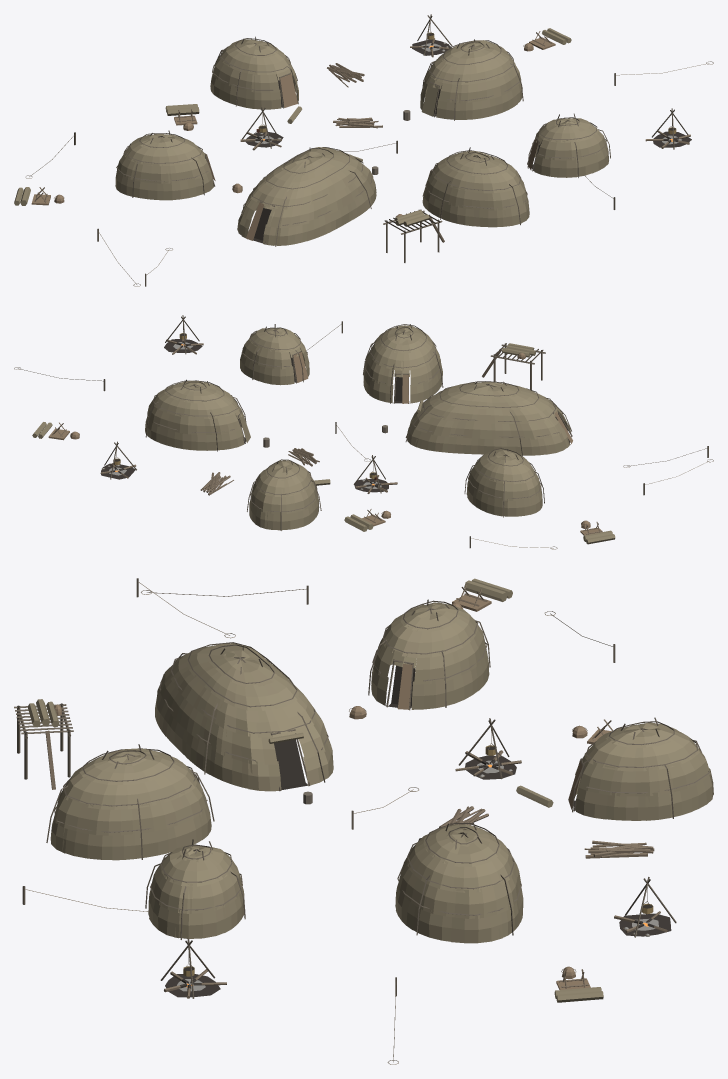
Rendered from potawatomi_camp_1812_prairie_west__camp_1812.glb.
The picture shows the model from 3 angles, top to bottom: view 1: azimuth 30°, elevation 25°; view 2: azimuth 150°, elevation 25°; view 3: azimuth 270°, elevation 25°; orthographic projection. The views are drawn at different scales.
Parts seen in each view (by area): view 1: potawatomi_camp_1812_prairie_west__camp_1812; view 2: potawatomi_camp_1812_prairie_west__camp_1812; view 3: potawatomi_camp_1812_prairie_west__camp_1812.
Part boxes in pixels (left/top/right/bottom): potawatomi_camp_1812_prairie_west__camp_1812: left=14, top=14, right=713, bottom=286; potawatomi_camp_1812_prairie_west__camp_1812: left=14, top=315, right=713, bottom=549; potawatomi_camp_1812_prairie_west__camp_1812: left=14, top=578, right=713, bottom=1064.
Bounding box in the file's own units: 36.64 × 3.08 × 22.57.
